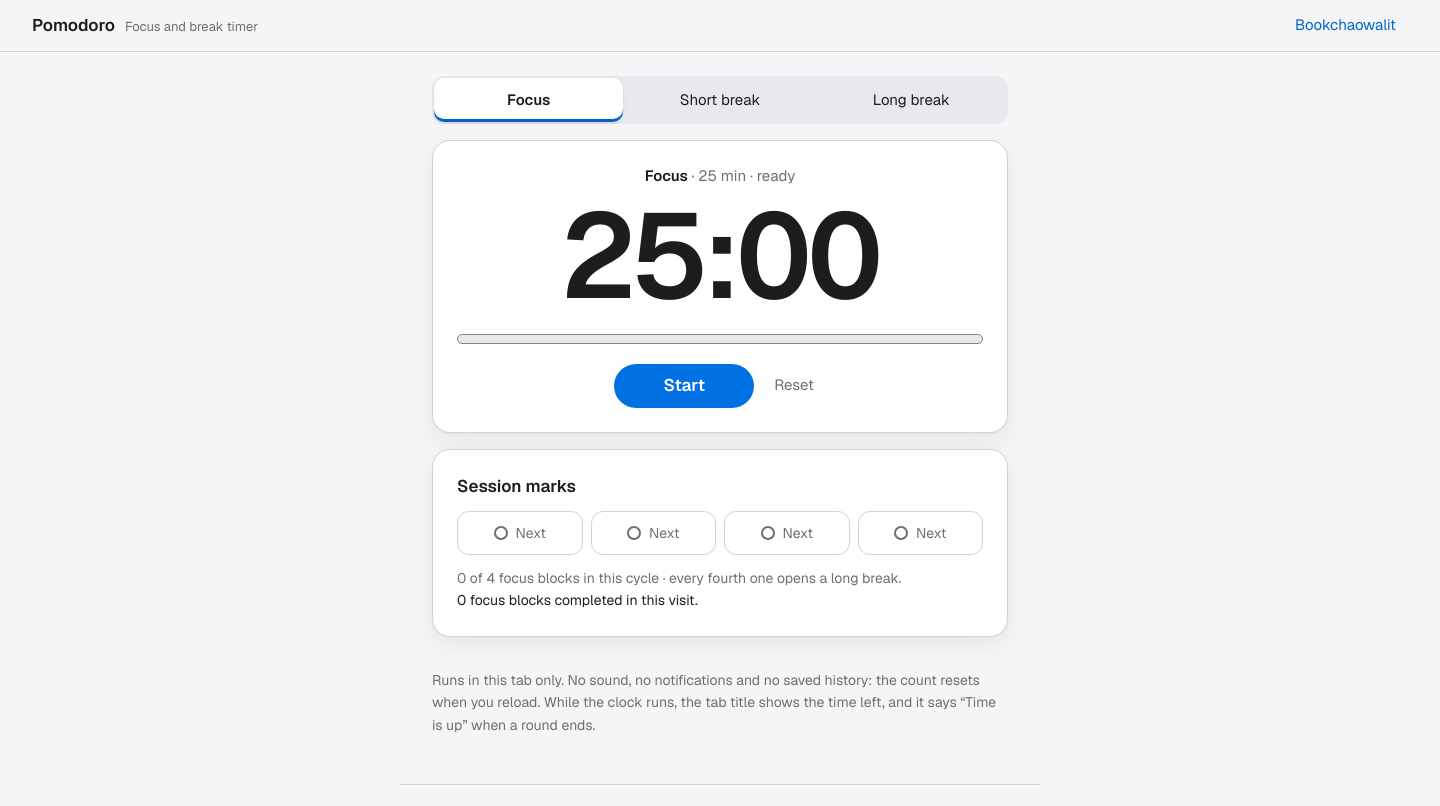
Test case: late Reset or mode pick › counts the focus block whose time ran out before the tick
What coordinates should you click on to do the following:
click the button "Start"
I would click on:
 (684, 386)
Its box is [614,364,754,408].
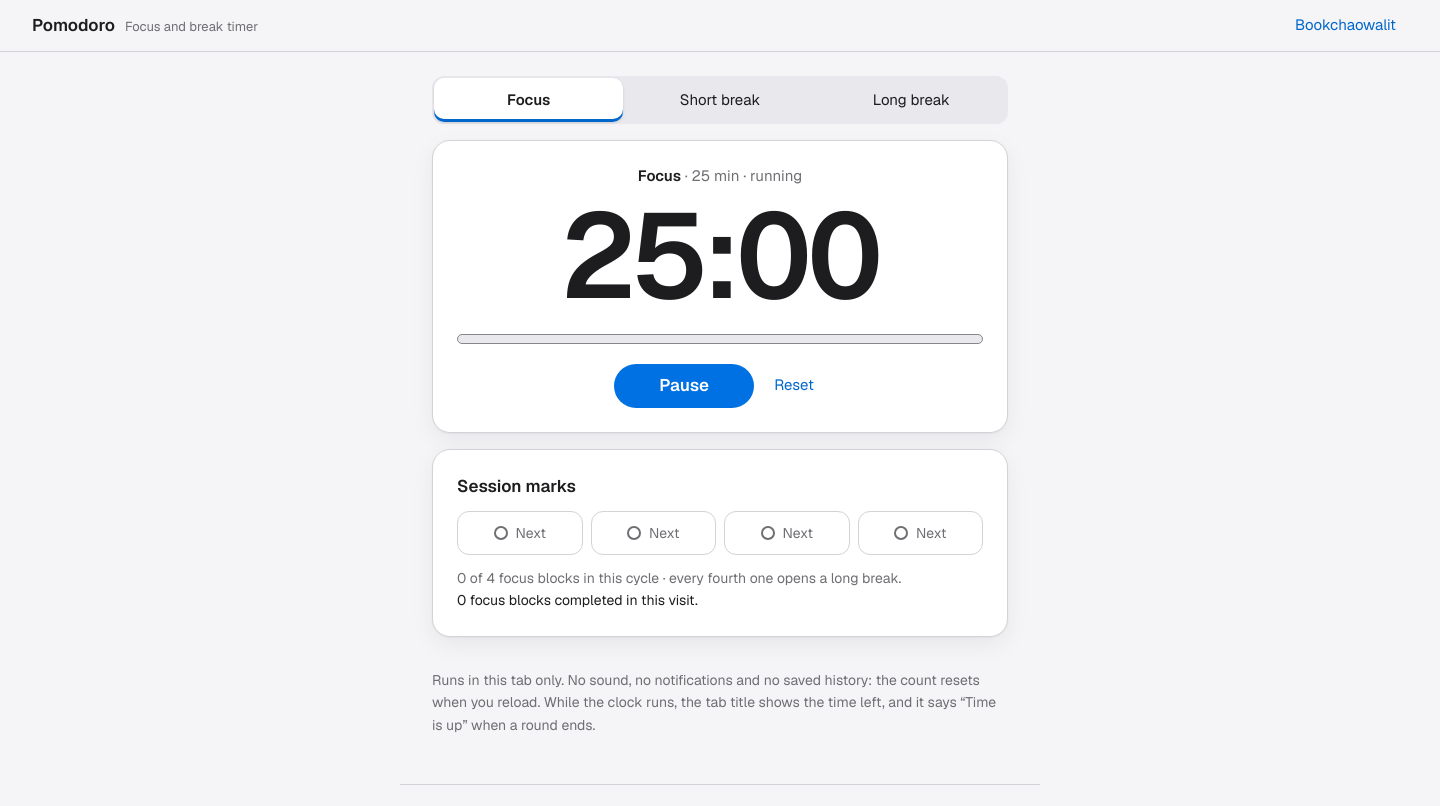
What coordinates should you click on to do the following:
click the button "Long break"
I would click on:
 (911, 100)
Its box is [817,78,1006,122].
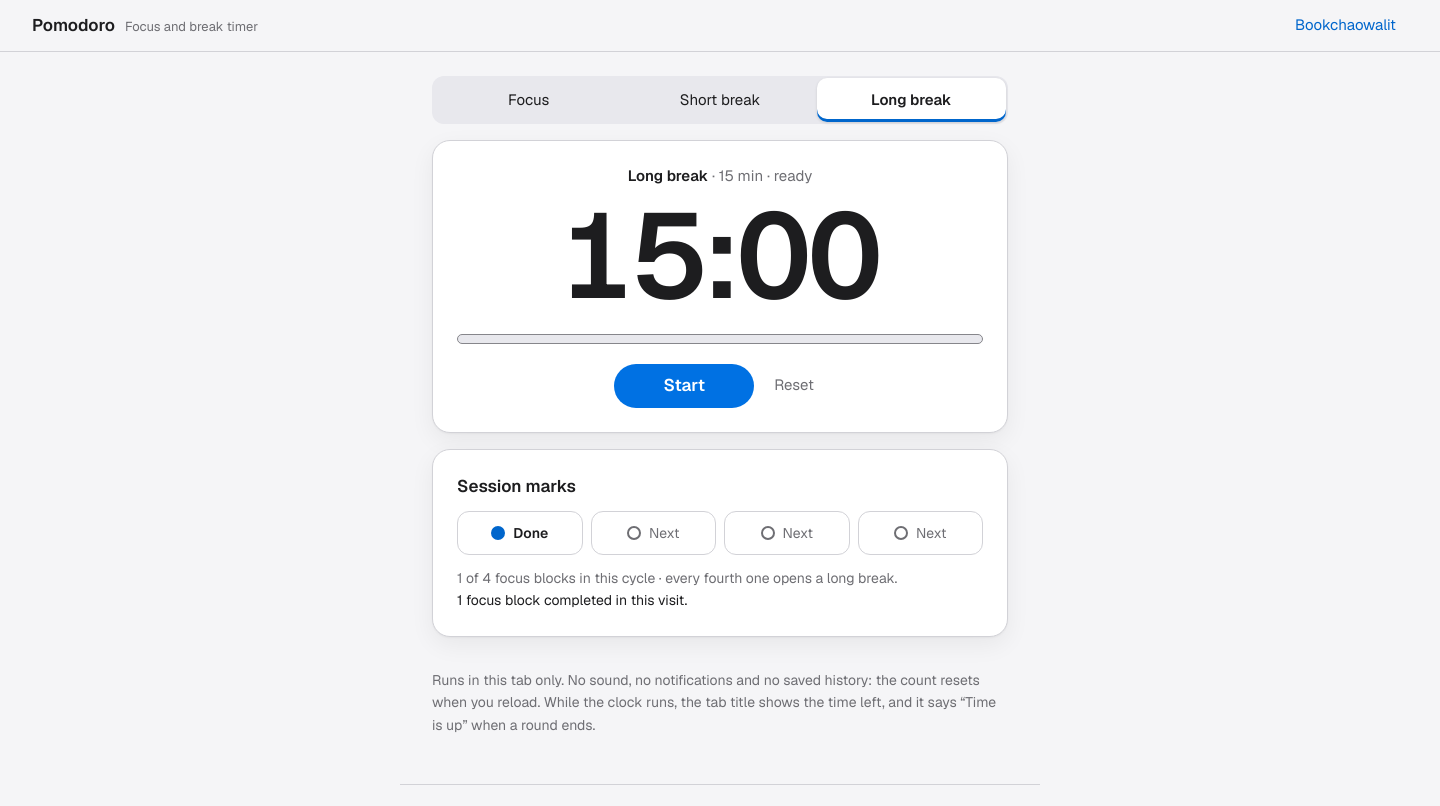
Expected: the text "1 focus block completed in this visit." is shown, [457,591,687,609]
